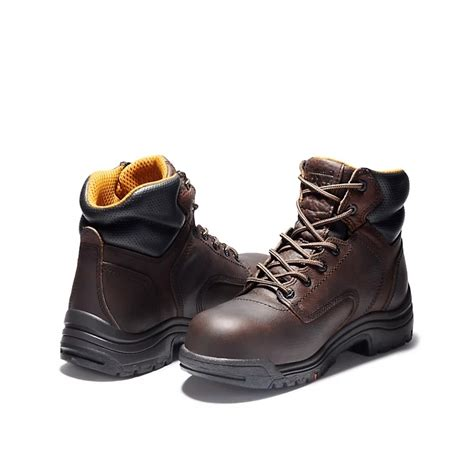cuero: (64, 155, 414, 367)
